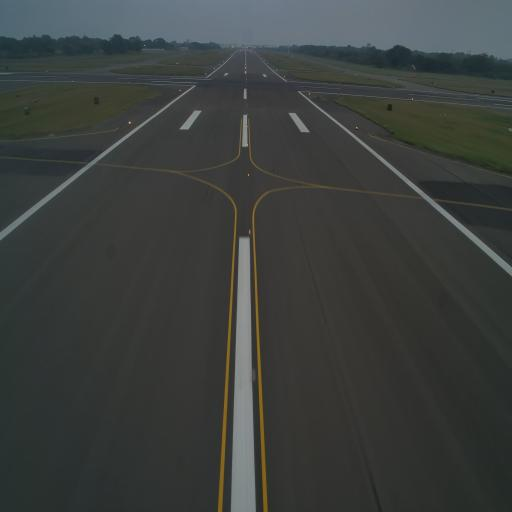on: (250, 364, 258, 385), (248, 227, 252, 236), (246, 140, 250, 148), (128, 118, 132, 125), (356, 124, 360, 130), (246, 124, 249, 130), (247, 172, 250, 177)
